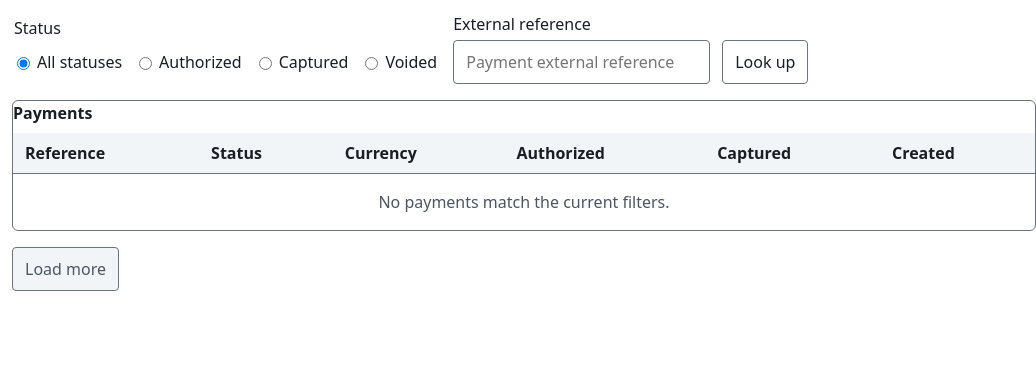
Test: PaymentsPage › lookup unknown ref shows not found
Check: the text "No payments match the current filters." is shown, box [13,174,1035,230]
In the search field labelled "External reference": {"x": 582, "y": 62} [453,40,710,84], type "missing"
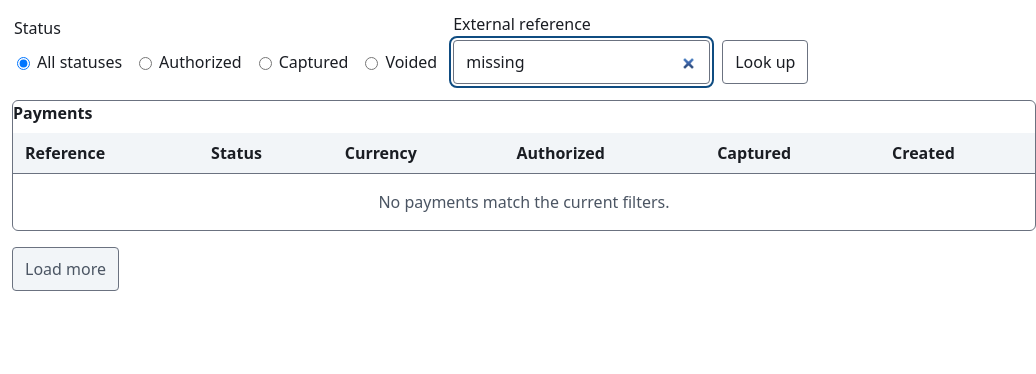
Click the button "Look up": {"x": 765, "y": 62} [722,40,808,84]
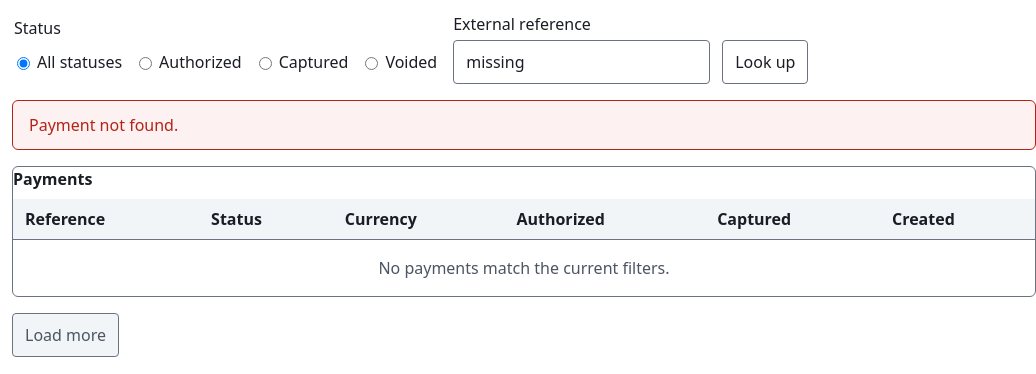
Check: the message reads "Payment not found.", box [29,114,178,136]
